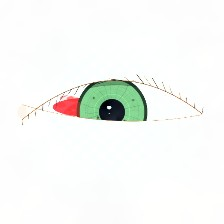hemorrhage_spot: (39, 66, 141, 148)
